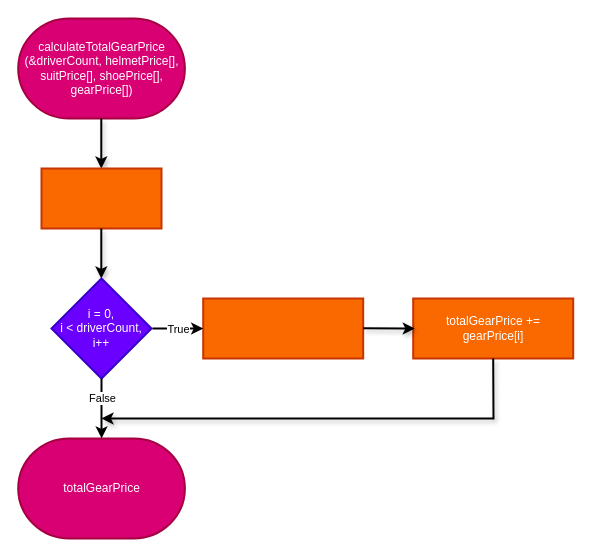
Image size: 591x556. Some labels were removed from this diagram. Each missing label, with the centre of its shape:
"gearPrice[i] = helmetPrice[i] + suitPrice[i] + shoePrice[i]" belongs at (x=283, y=328).
"totalGearPrice = 0" belongs at (x=101, y=198).
